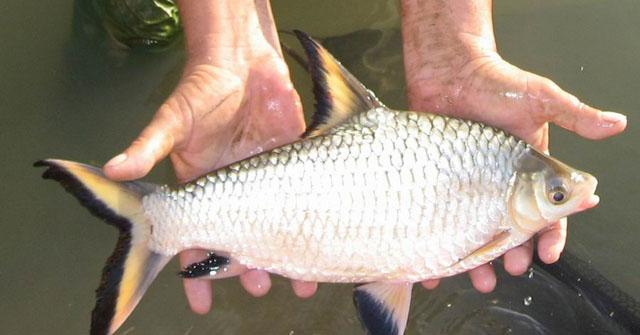Mulut: (548, 160, 622, 225)
Sirip Anal: (172, 240, 258, 294)
Sirip Dada: (432, 220, 522, 286)
Sirip Ekor: (25, 148, 175, 334)
Sirip Perut: (336, 265, 428, 335)
Sirip Punggung: (276, 13, 402, 157)
